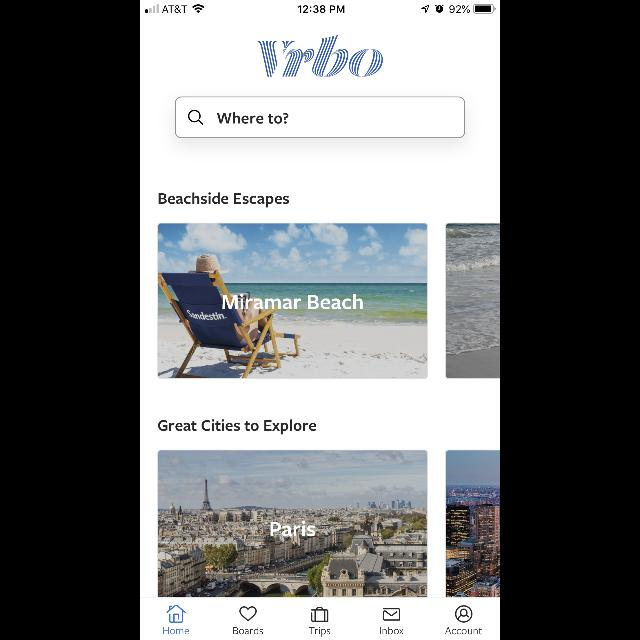icon: (166, 605, 186, 623), (188, 110, 204, 126), (456, 606, 472, 622), (312, 606, 328, 622), (240, 606, 256, 622), (384, 608, 401, 620)
image: (158, 223, 428, 379), (158, 449, 428, 596), (446, 223, 498, 379), (446, 449, 500, 596), (257, 36, 383, 78)
input: (175, 97, 465, 139)
text: (223, 293, 363, 309), (158, 420, 316, 434), (159, 192, 289, 208), (217, 112, 289, 124), (271, 521, 315, 537), (233, 627, 263, 635), (444, 628, 482, 634), (310, 627, 330, 637), (381, 626, 404, 634), (163, 628, 189, 634)
uppertaskbar: (140, 0, 500, 14)
